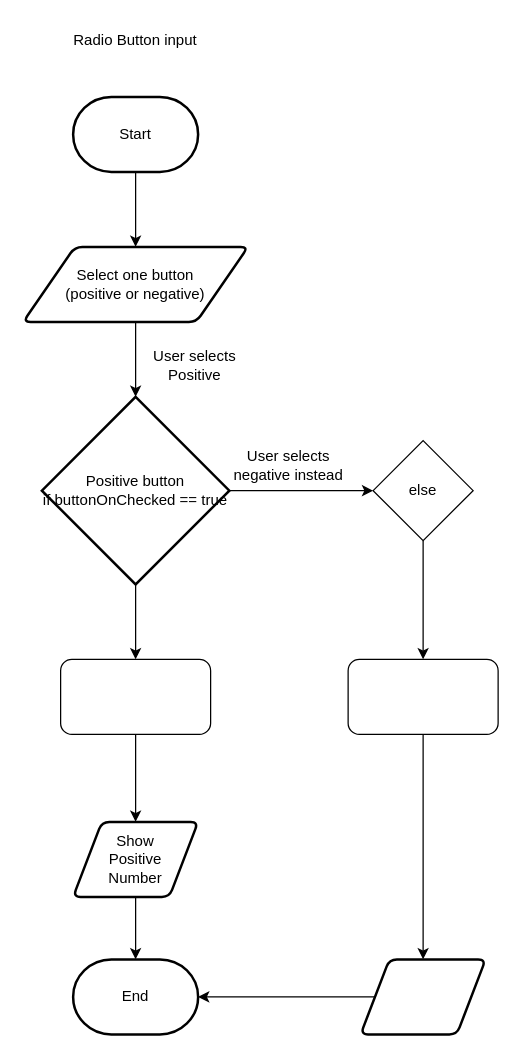
Some shapes in this 520 by 1056 pixel diagram are drawn without their labels. Here are the shapes that lost their labels. From the top down, the centre of each, then its label:
At (x=135, y=696): "Generate positive number".
At (x=422, y=696): "Generate negative number".
At (x=422, y=996): "Show Negative Number".
